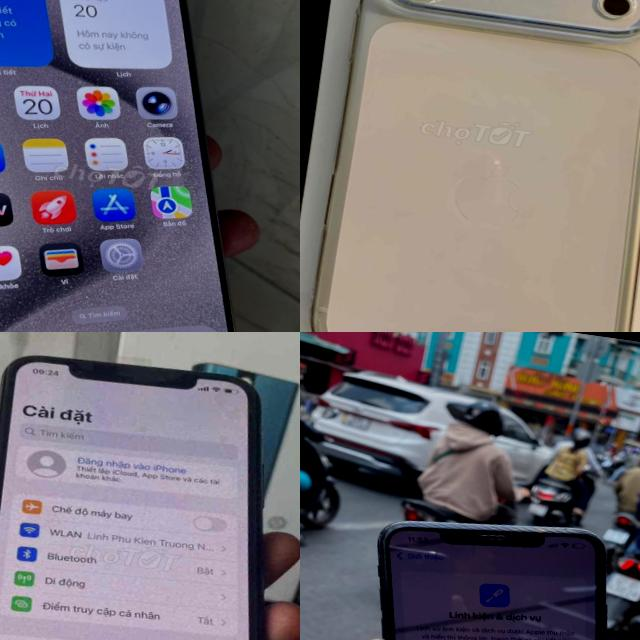physical_damage: (590, 552, 604, 594)
scratch: (376, 532, 384, 552)
